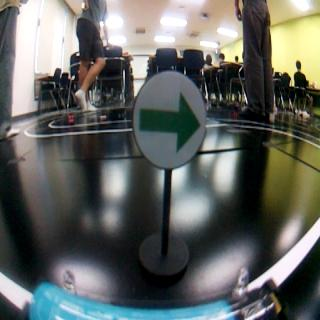right: (133, 72, 207, 170)
